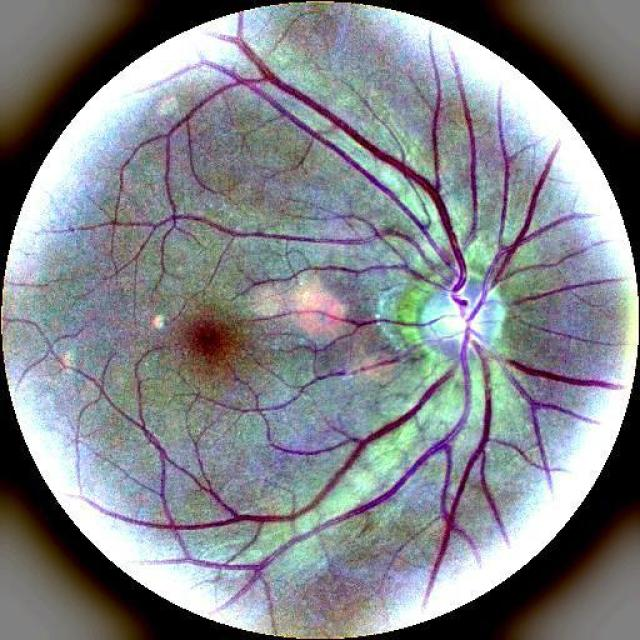Macula: (194, 321, 225, 362)
Nerves: (110, 43, 616, 578)
Optic Disk: (418, 282, 504, 355)
